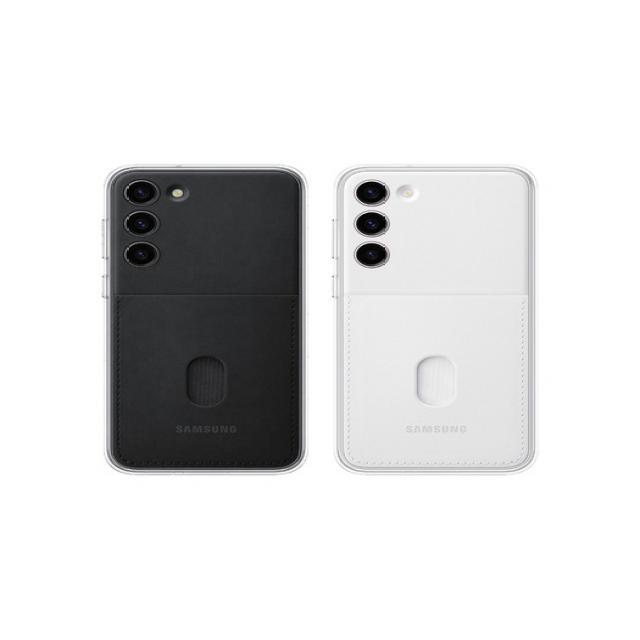phone: (101, 163, 308, 474), (330, 165, 536, 473)
